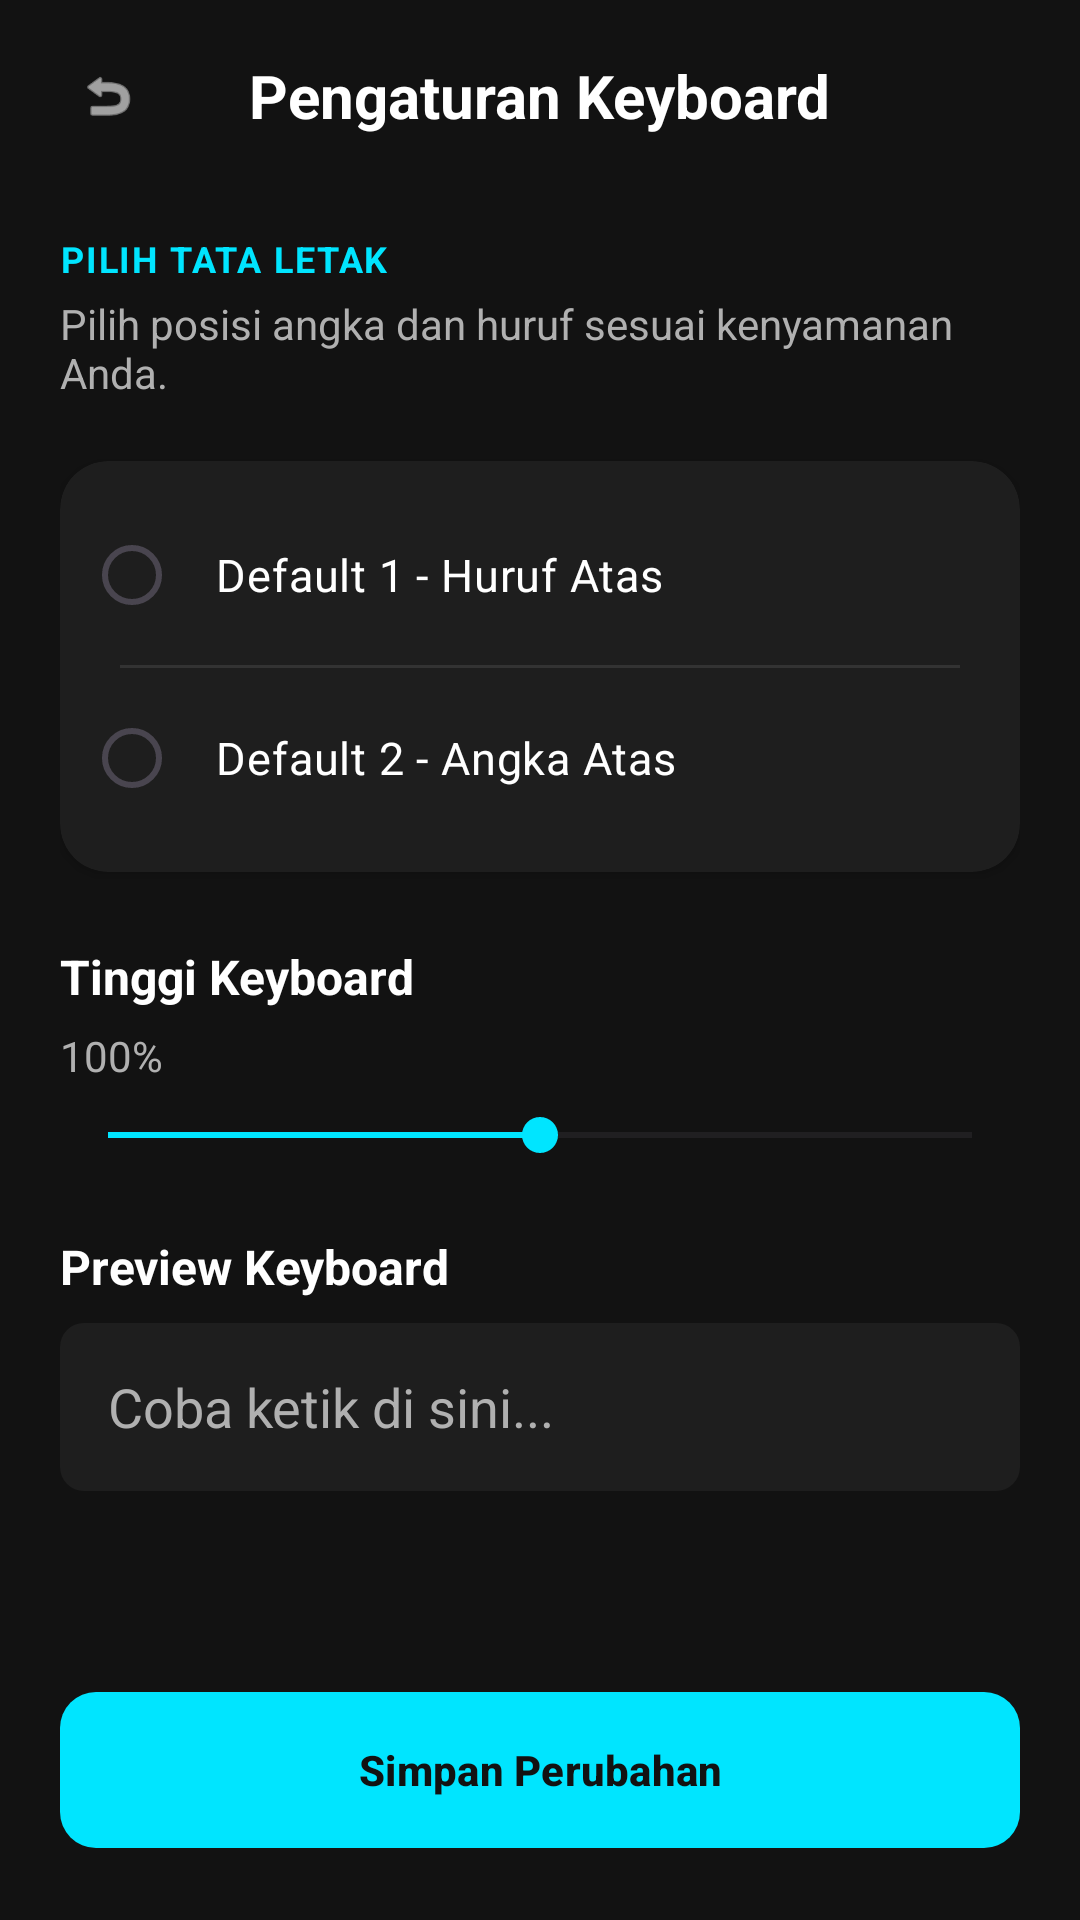

Named icons in this screenshot (1080×1920) and their bounding boxes, (x1, y1, x2, y2):
revert: (87, 77, 130, 116)
